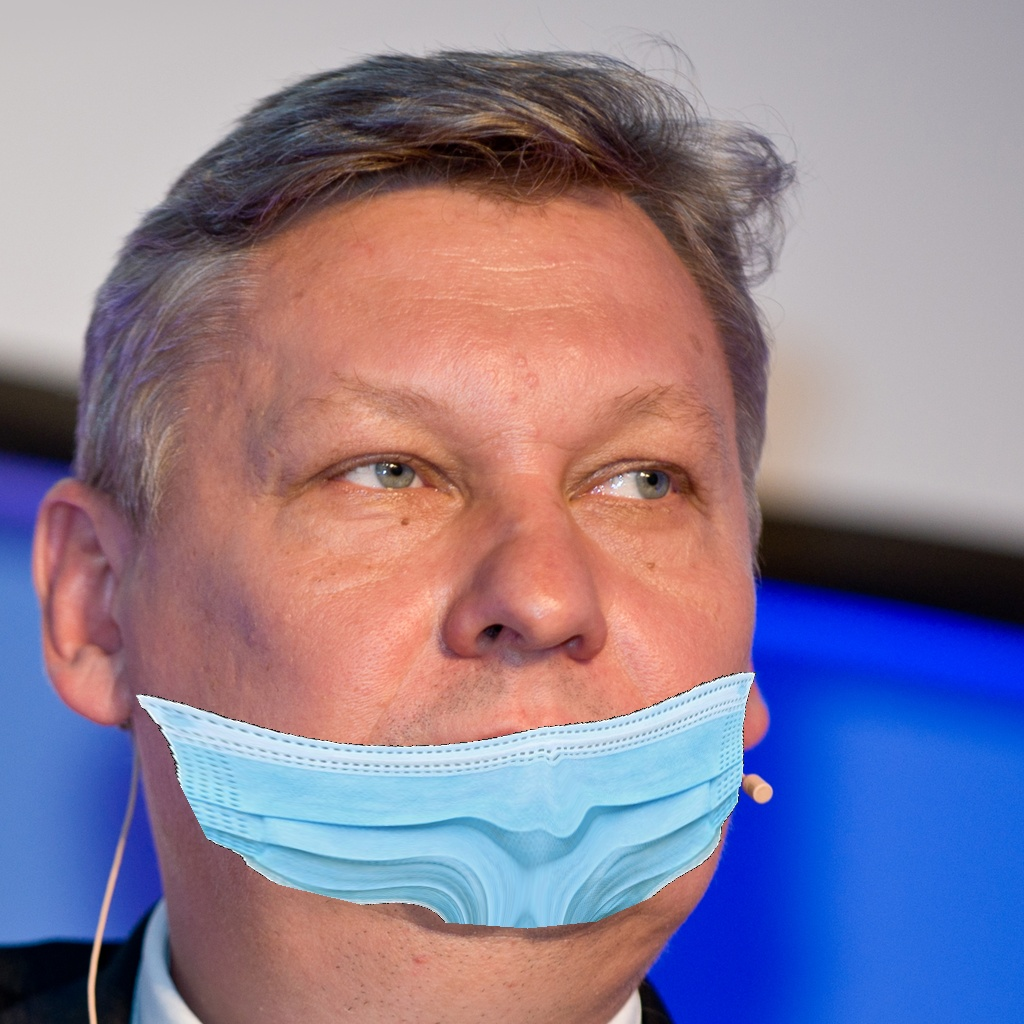mascarilla_mal_puesta: (179, 365, 799, 978)
